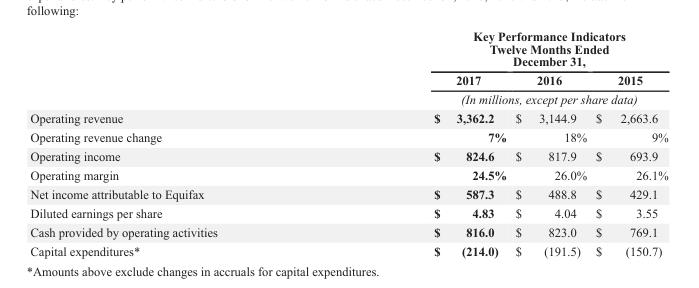table: (29, 28, 667, 257)
table column: (29, 28, 325, 257), (325, 28, 510, 257), (510, 28, 590, 257), (590, 28, 667, 257)
table column header: (29, 28, 667, 108)
table row: (29, 28, 667, 70), (29, 70, 667, 89), (29, 89, 667, 108), (29, 108, 667, 127), (29, 127, 667, 146), (29, 146, 667, 165), (29, 165, 667, 184), (29, 184, 667, 203), (29, 203, 667, 222), (29, 222, 667, 240), (29, 240, 667, 257)
table spanning cell: (325, 28, 667, 70), (325, 89, 667, 108)
